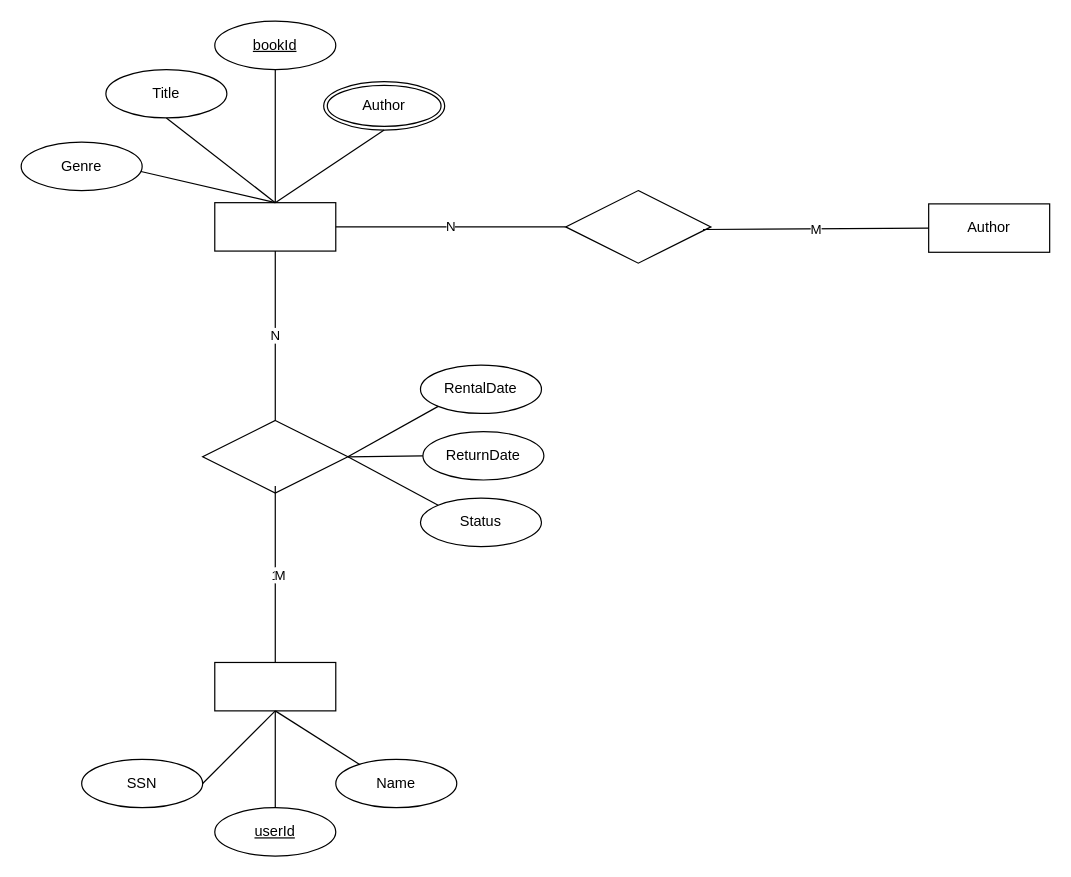
Image size: 1071x877. Some labels were removed from this diagram. Each missing label, with the centre of its shape:
Book: point (275, 226)
is rented by: point (274, 456)
User: point (275, 686)
written by: point (637, 226)
